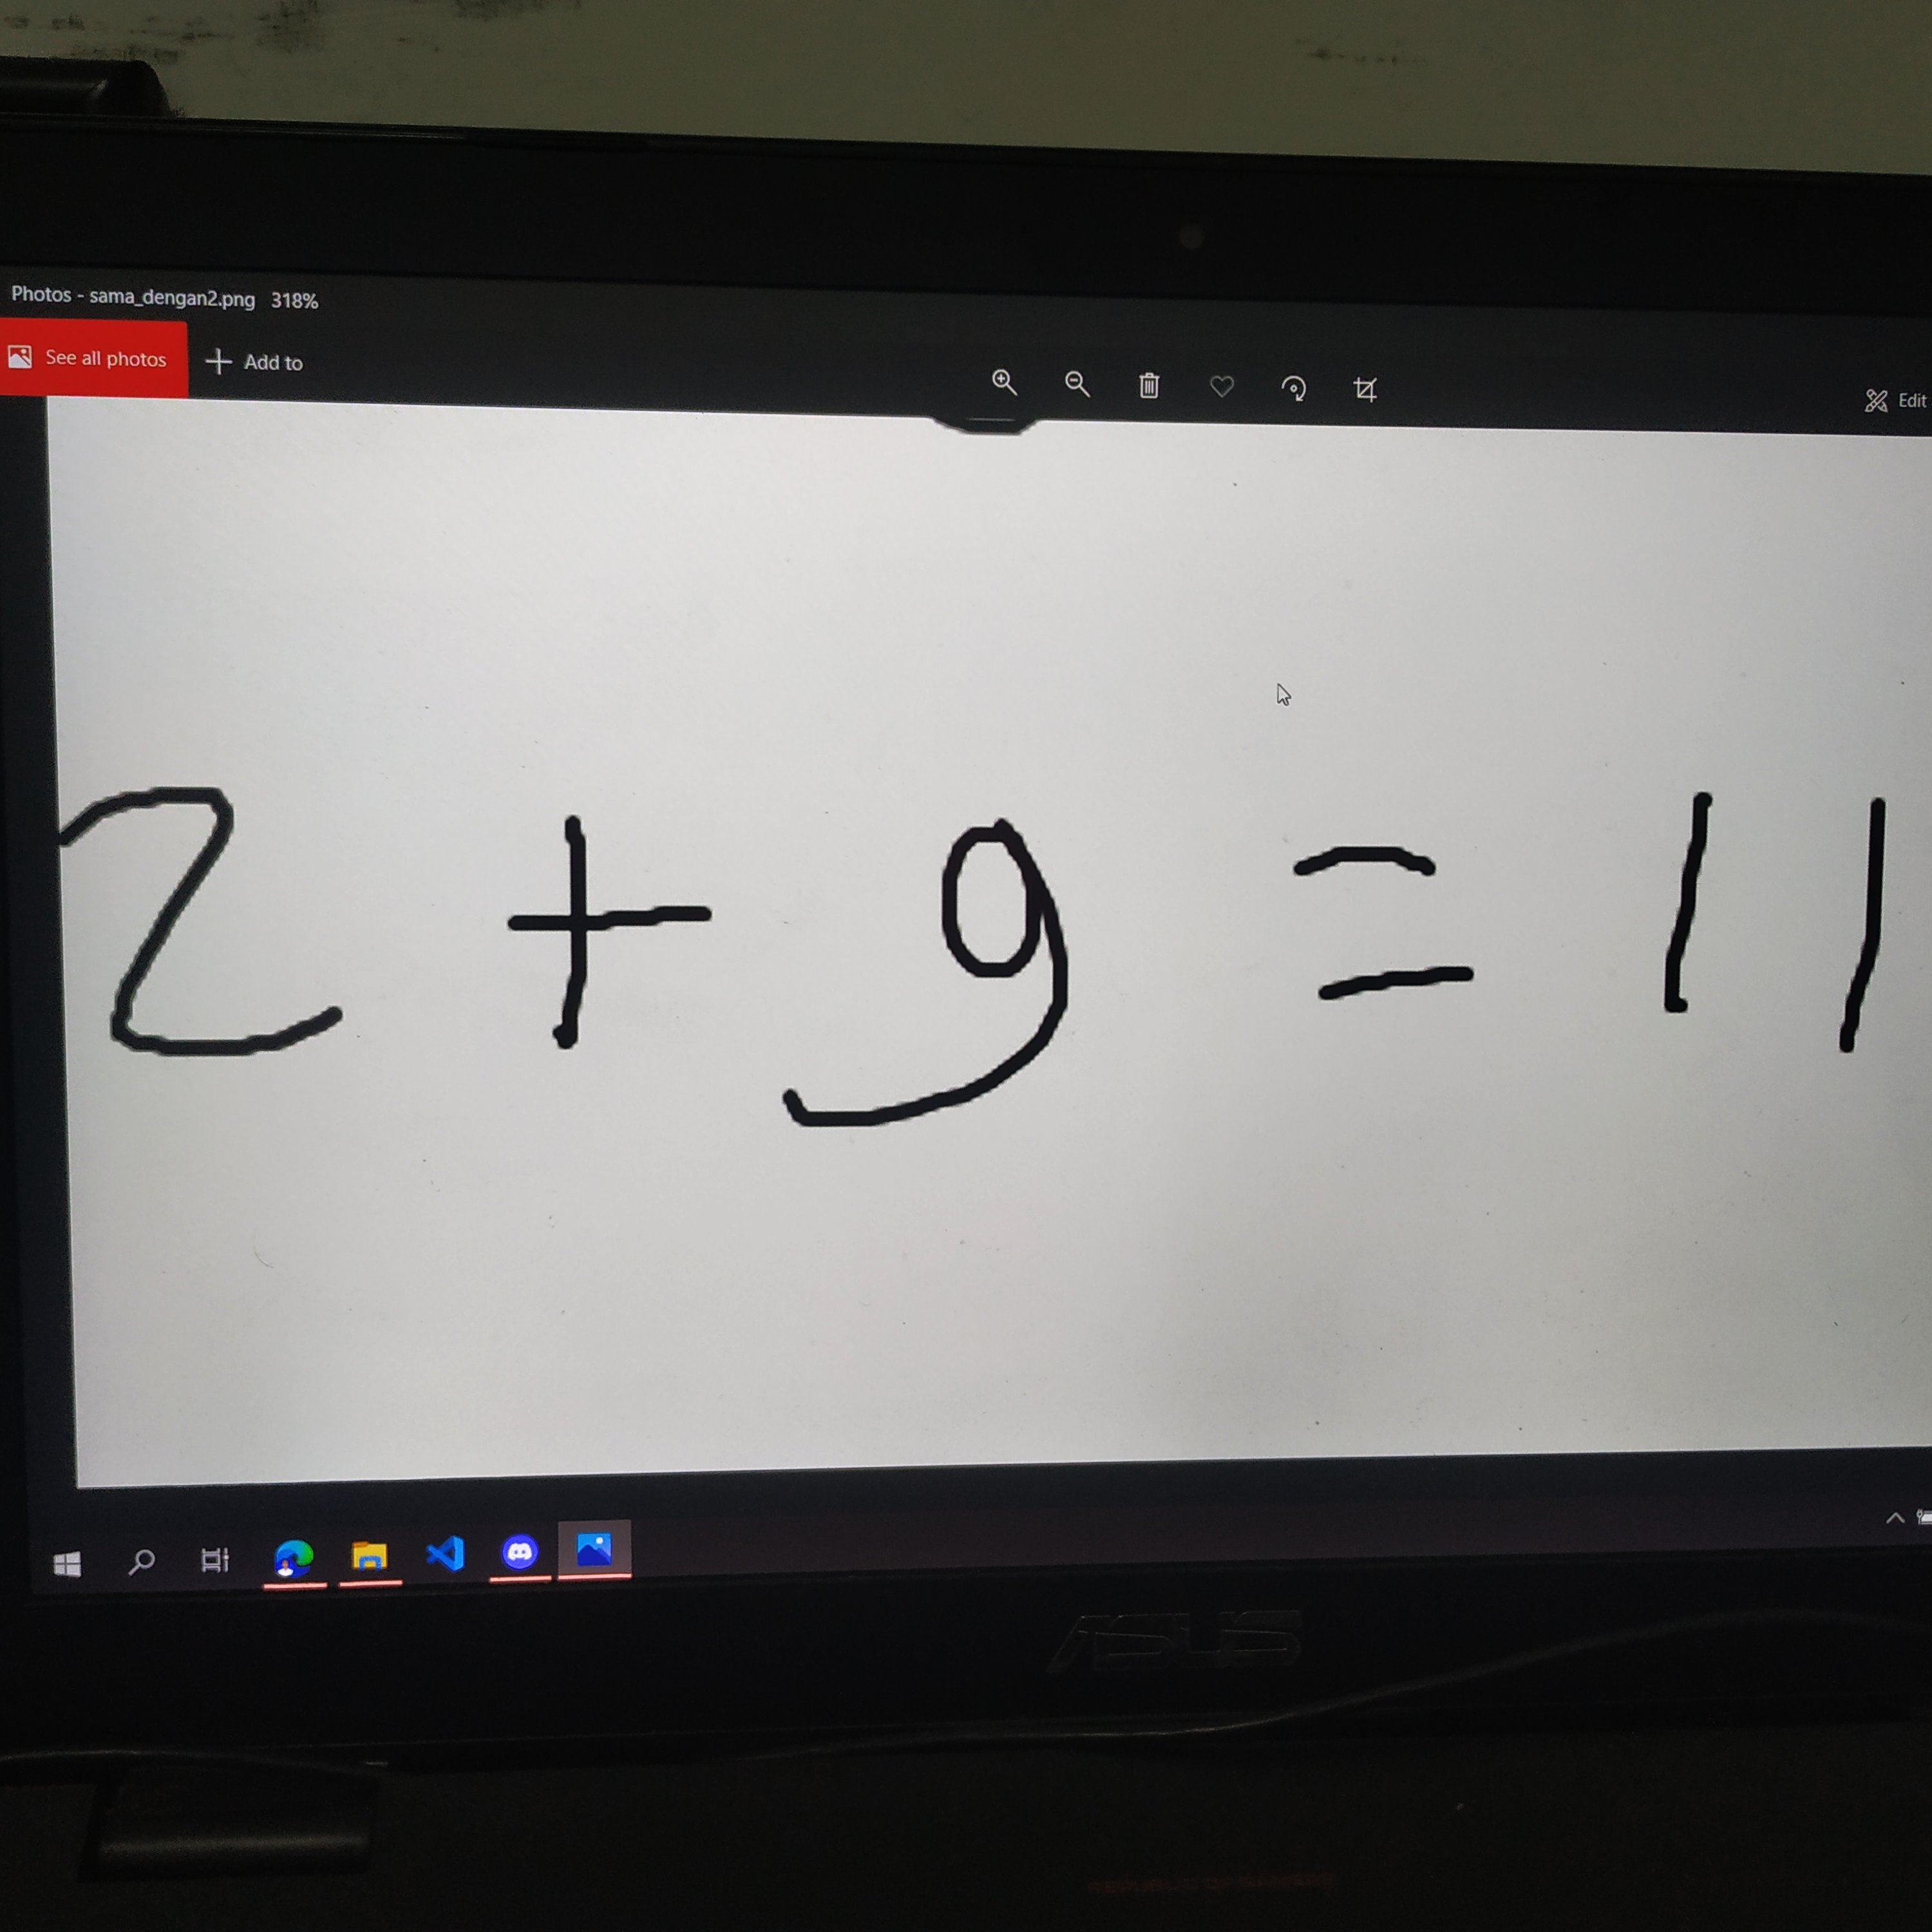equal: (1265, 812, 1499, 1020)
num1: (1613, 762, 1743, 1032), (1828, 785, 1899, 1074)
num2: (59, 770, 384, 1078)
num9: (773, 793, 1091, 1157)
sum: (491, 797, 740, 1078)
